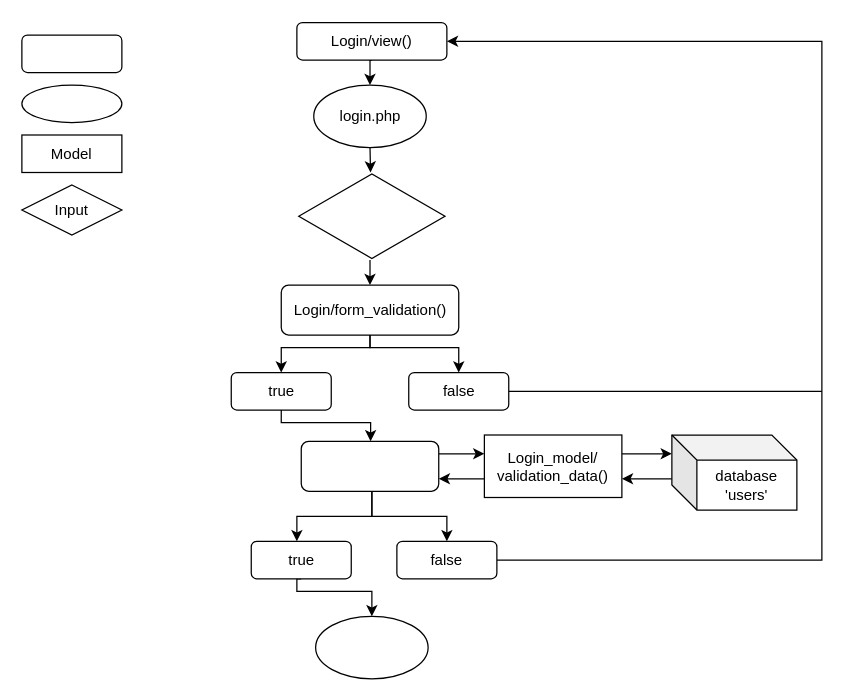
This 854x700 diagram has some shape labels left out. Each missing label, with the centre of its shape:
"'username' 'password'" goes at (371,215).
"Crontoller" goes at (71,53).
"logged.php" goes at (371,647).
"Login/validation()" goes at (369,465).
"View" goes at (71,103).
